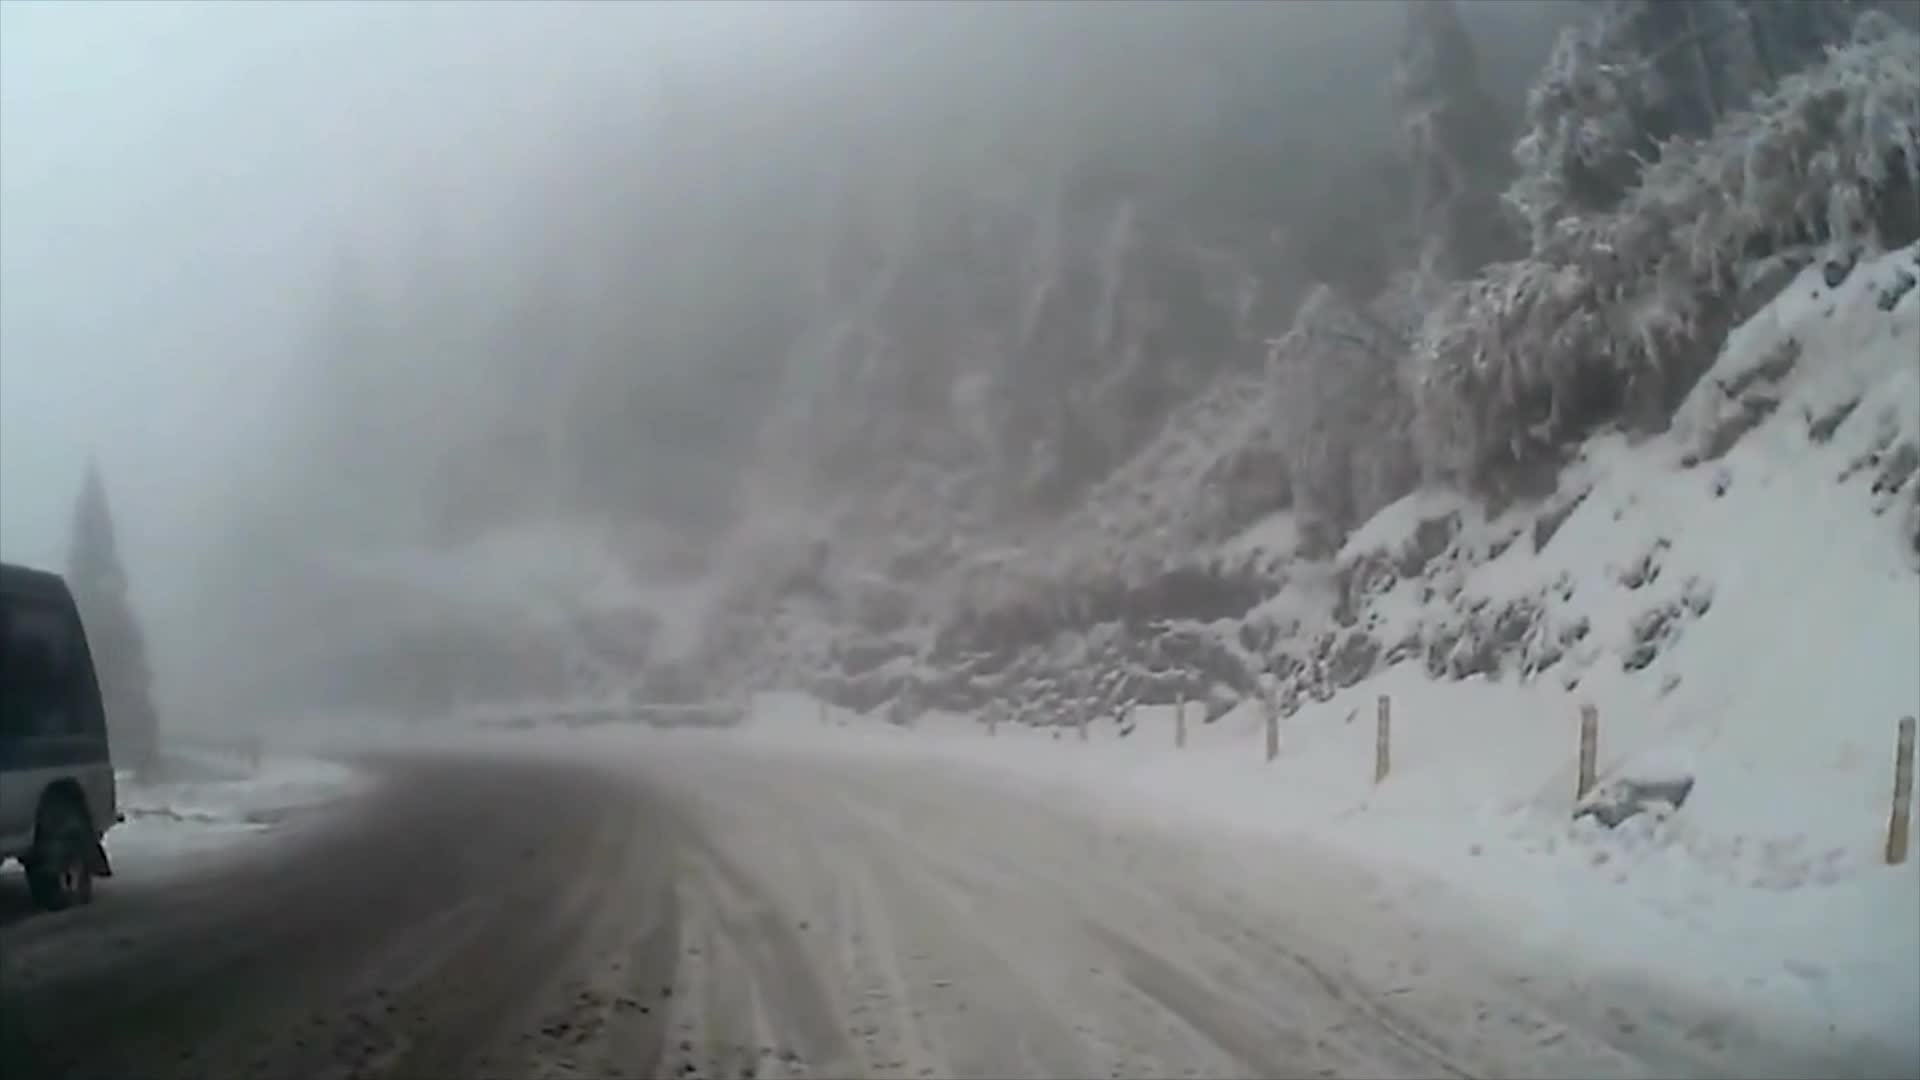vehicle: (0, 556, 129, 916)
